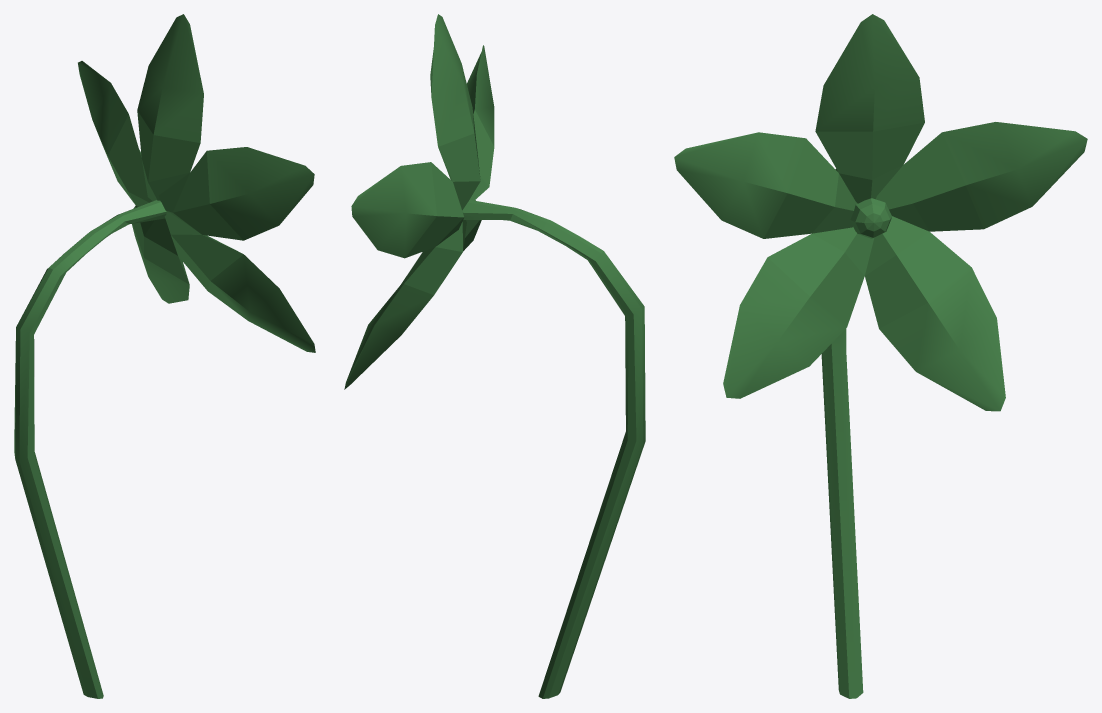
Rendered from flower 2.fbx.
3 renders of one model, left to right at view 1: azimuth 30°, elevation 25°; view 2: azimuth 150°, elevation 25°; view 3: azimuth 270°, elevation 25°, orthographic. The views are drawn at different scales.
Parts seen in each view (by area): view 1: polySurface534; view 2: polySurface534; view 3: polySurface534.
Part boxes in pixels (x1,y1,x2,y2): polySurface534: (14, 14, 315, 698); polySurface534: (344, 14, 645, 698); polySurface534: (674, 14, 1087, 698).
Size of the model in its own units: 1.37 by 3.38 by 1.72.
